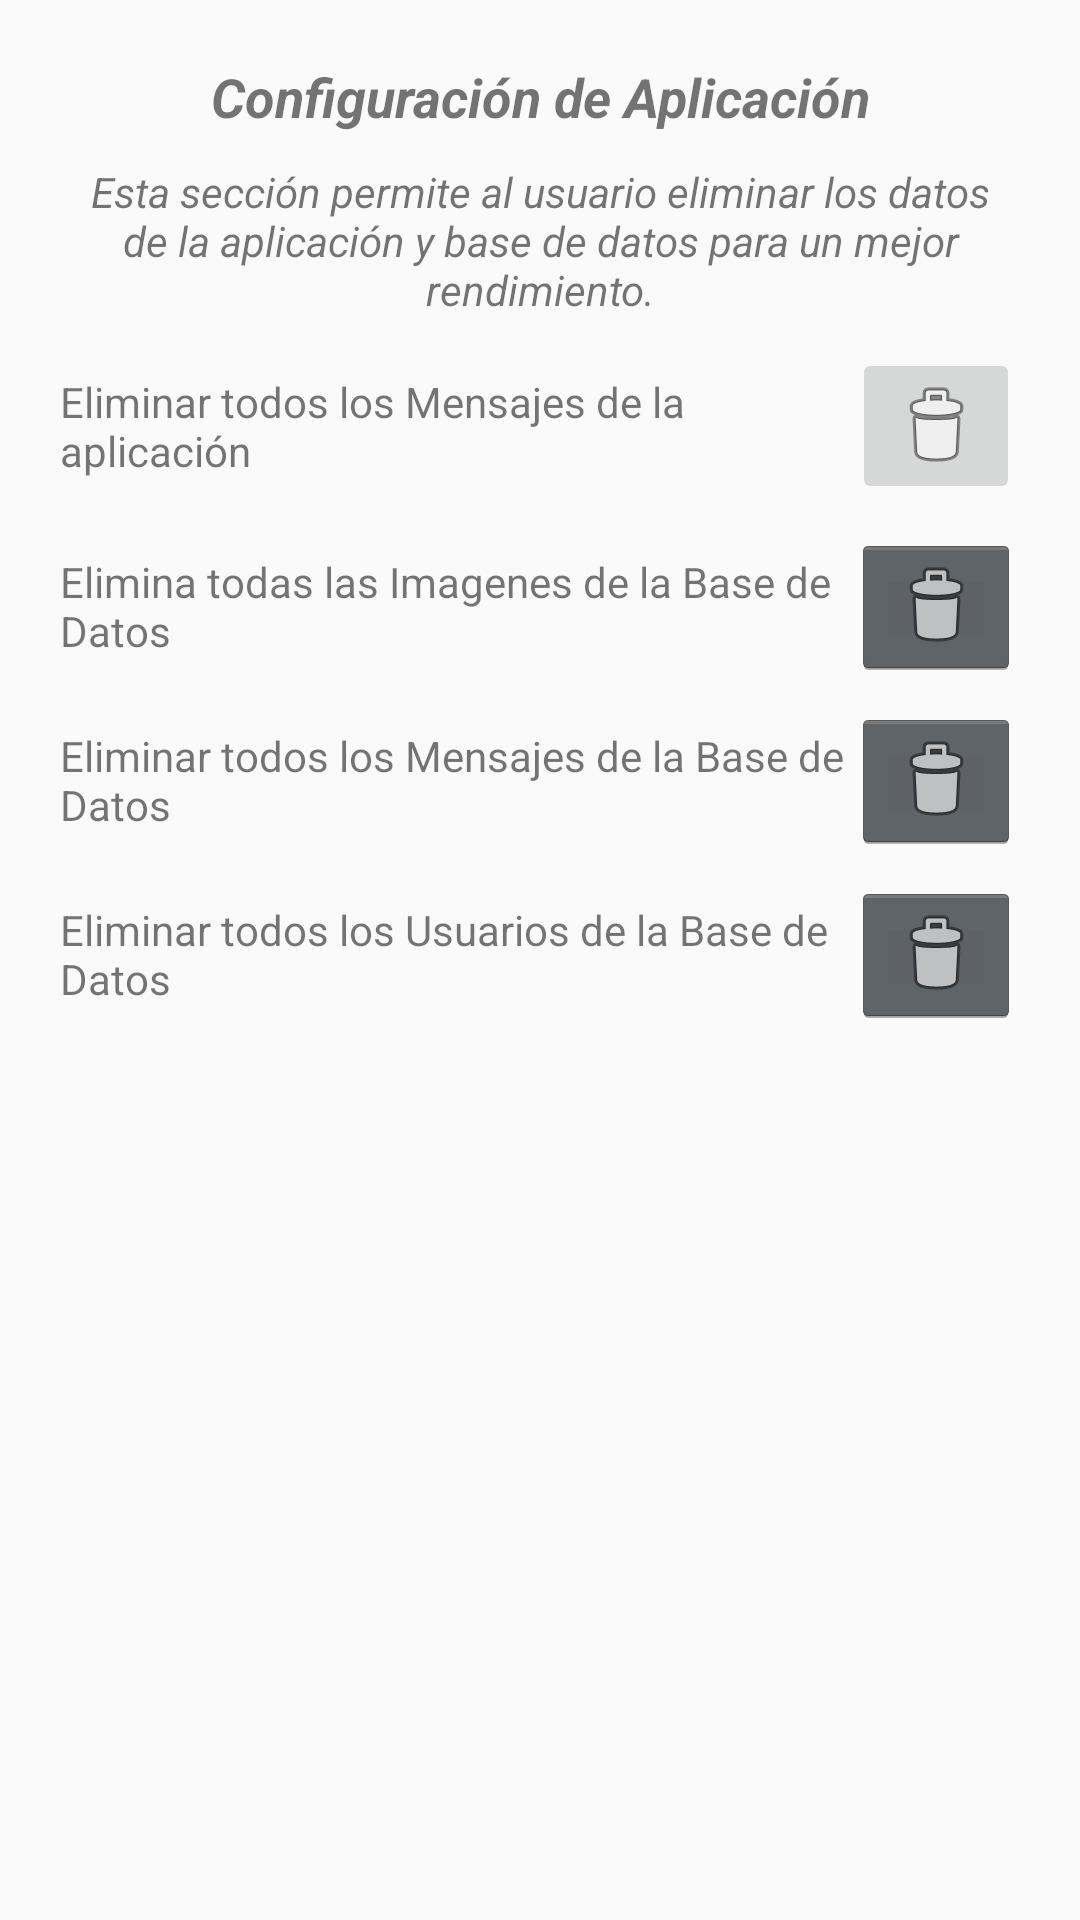

Named icons in this screenshot (1080x1920) and their bounding boxes, (x1,y1,x2,y2):
delete: (864,366,1008,486), (863,546,1009,670), (863,720,1009,844), (863,894,1009,1018)
